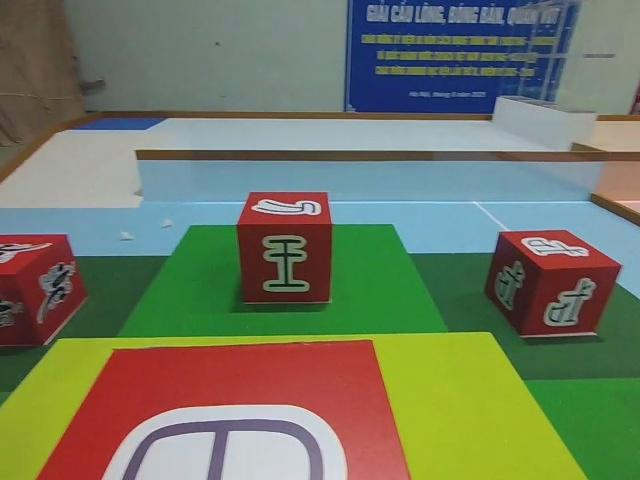R1: (0, 231, 90, 350)
R2 Fake: (32, 334, 416, 480), (233, 186, 335, 308)
R2 Real: (481, 228, 624, 339)
